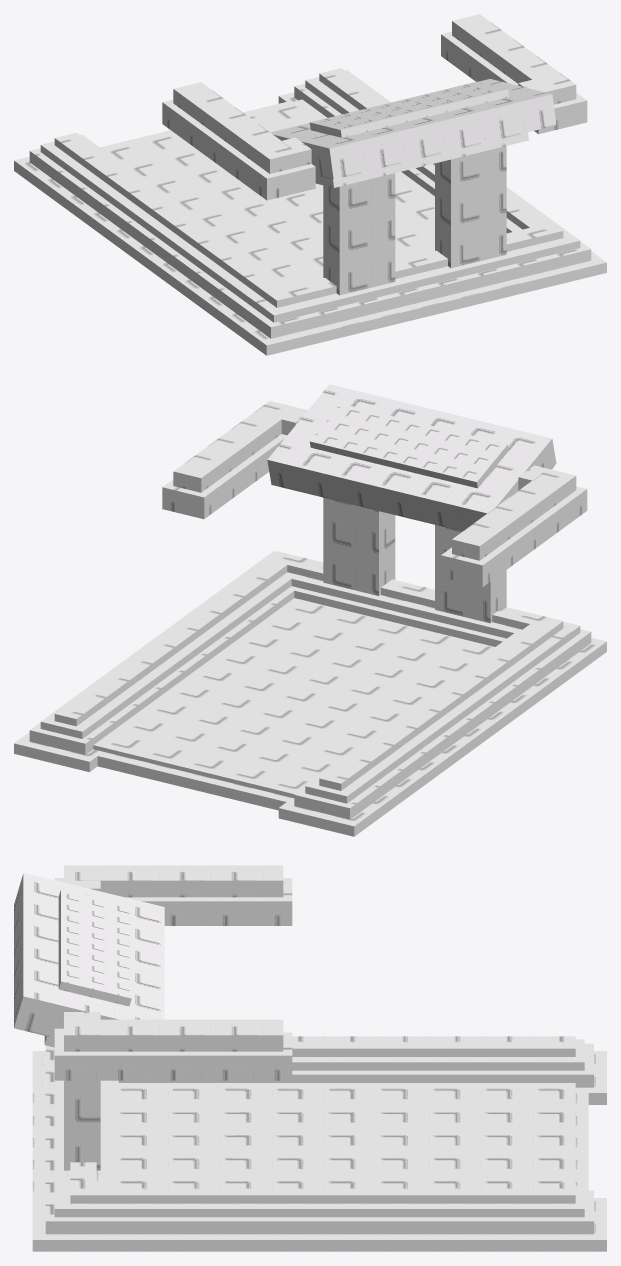
Rendered from 06-futuristic.obj.
The picture shows the model from 3 angles, top to bottom: view 1: azimuth 30°, elevation 25°; view 2: azimuth 150°, elevation 25°; view 3: azimuth 270°, elevation 25°; orthographic projection. The views are drawn at different scales.
Visible parts, largest first — view 1: Part23, Part26, Part18, Part7, Part5, Part15, Part1, Part20, Part16, Part22, Part24, Part9 (+14 smaller); view 2: Part23, Part9, Part7, Part30, Part28, Part8, Part15, Part5, Part31, Part1, Part18, Part12 (+13 smaller); view 3: Part23, Part6, Part28, Part7, Part8, Part15, Part31, Part14, Part29, Part9, Part13, Part10 (+13 smaller).
Boxes of the visible parts, x1=… form: Part23: x1=270, y1=79, x2=556, y2=179; Part26: x1=323, y1=173, x2=395, y2=295; Part18: x1=435, y1=146, x2=506, y2=268; Part7: x1=135, y1=131, x2=323, y2=277; Part5: x1=14, y1=156, x2=342, y2=355; Part15: x1=101, y1=140, x2=322, y2=286; Part1: x1=54, y1=132, x2=286, y2=298; Part20: x1=238, y1=241, x2=591, y2=338; Part16: x1=249, y1=223, x2=580, y2=322; Part22: x1=173, y1=82, x2=297, y2=173; Part24: x1=40, y1=134, x2=289, y2=304; Part9: x1=309, y1=81, x2=508, y2=137; Part23: x1=267, y1=384, x2=556, y2=531; Part9: x1=309, y1=403, x2=508, y2=488; Part7: x1=218, y1=628, x2=461, y2=789; Part30: x1=93, y1=598, x2=335, y2=759; Part28: x1=135, y1=608, x2=377, y2=769; Part8: x1=177, y1=618, x2=419, y2=779; Part15: x1=260, y1=639, x2=494, y2=798; Part5: x1=278, y1=637, x2=606, y2=836; Part31: x1=54, y1=559, x2=287, y2=726; Part1: x1=319, y1=624, x2=551, y2=790; Part18: x1=323, y1=497, x2=395, y2=595; Part12: x1=294, y1=653, x2=558, y2=819; Part23: x1=14, y1=873, x2=164, y2=1037; Part6: x1=32, y1=1198, x2=606, y2=1251; Part28: x1=118, y1=1152, x2=575, y2=1175; Part7: x1=118, y1=1106, x2=575, y2=1129; Part8: x1=118, y1=1129, x2=575, y2=1152; Part15: x1=118, y1=1083, x2=575, y2=1105; Part31: x1=96, y1=1183, x2=575, y2=1203; Part14: x1=118, y1=1190, x2=593, y2=1234; Part29: x1=54, y1=1032, x2=292, y2=1080; Part9: x1=58, y1=889, x2=131, y2=1006; Part13: x1=109, y1=1186, x2=584, y2=1217; Part10: x1=64, y1=1019, x2=283, y2=1051.
Size of the model in its own units: 8.55 by 4.71 by 11.36.
31 materials, 31 textured.
